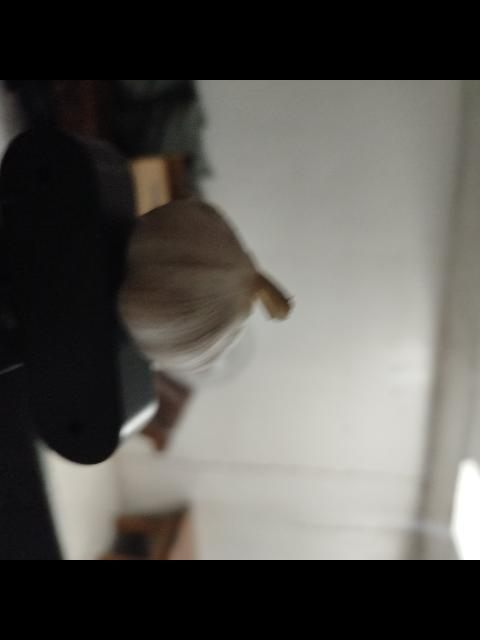garlic: (111, 170, 305, 406)
